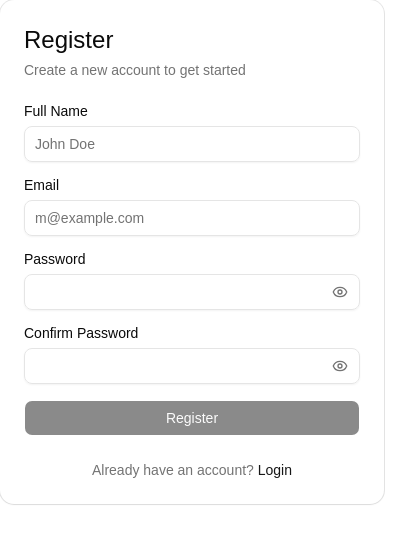
Test: RegisterForm - email field validation › shows an error when the email is empty and blurred
Click the field labelled "Email" at [192, 218], box [24,200,360,236]
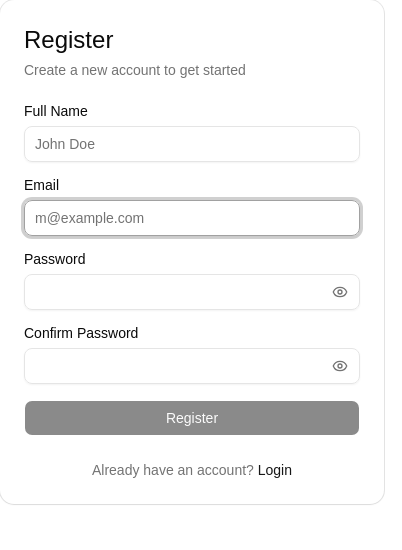
Press Tab
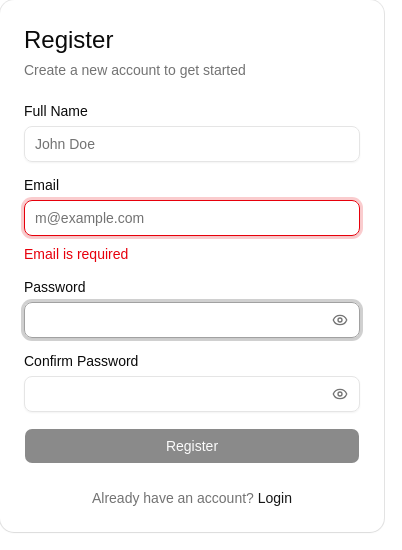
Now the text "Email is required" is shown, box [24,246,128,262]
